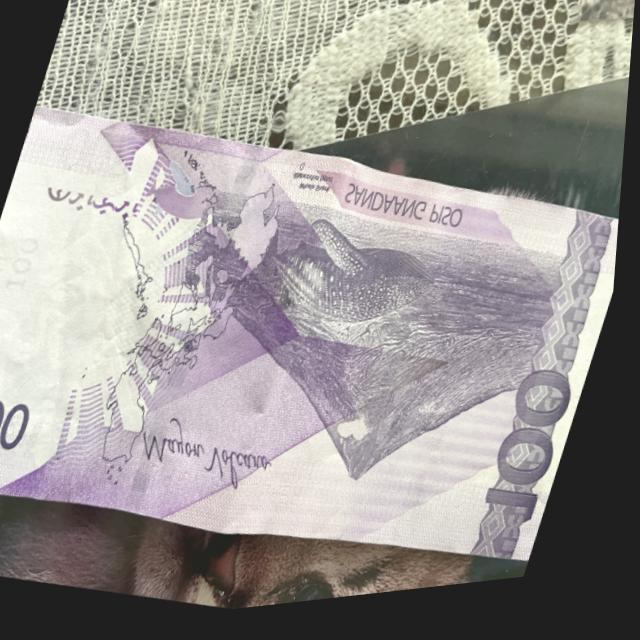security_thread: (131, 145, 266, 523)
see_through_mark: (41, 171, 154, 235)
value_watermark: (4, 232, 46, 298)
